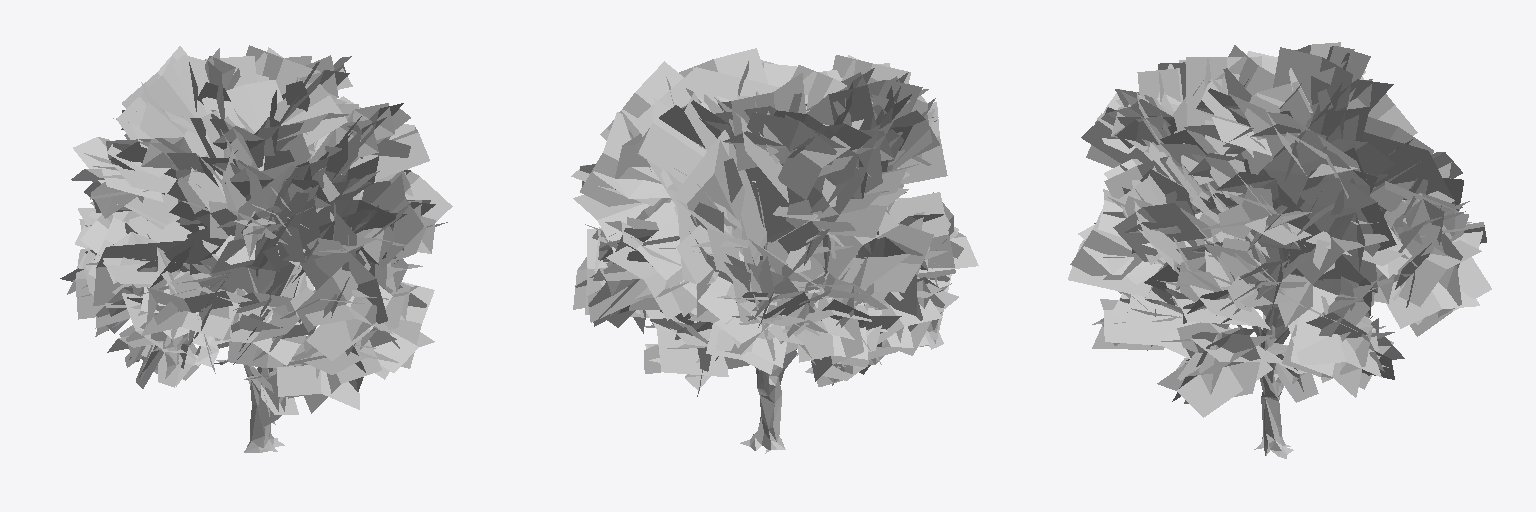
Rendered from z_prop_tree_oak1.obj.
The picture shows the model from 3 angles: view 1: azimuth 30°, elevation 25°; view 2: azimuth 150°, elevation 25°; view 3: azimuth 270°, elevation 25°; orthographic projection.
Bounding box in the file's own units: 15.92 × 17.41 × 17.46.